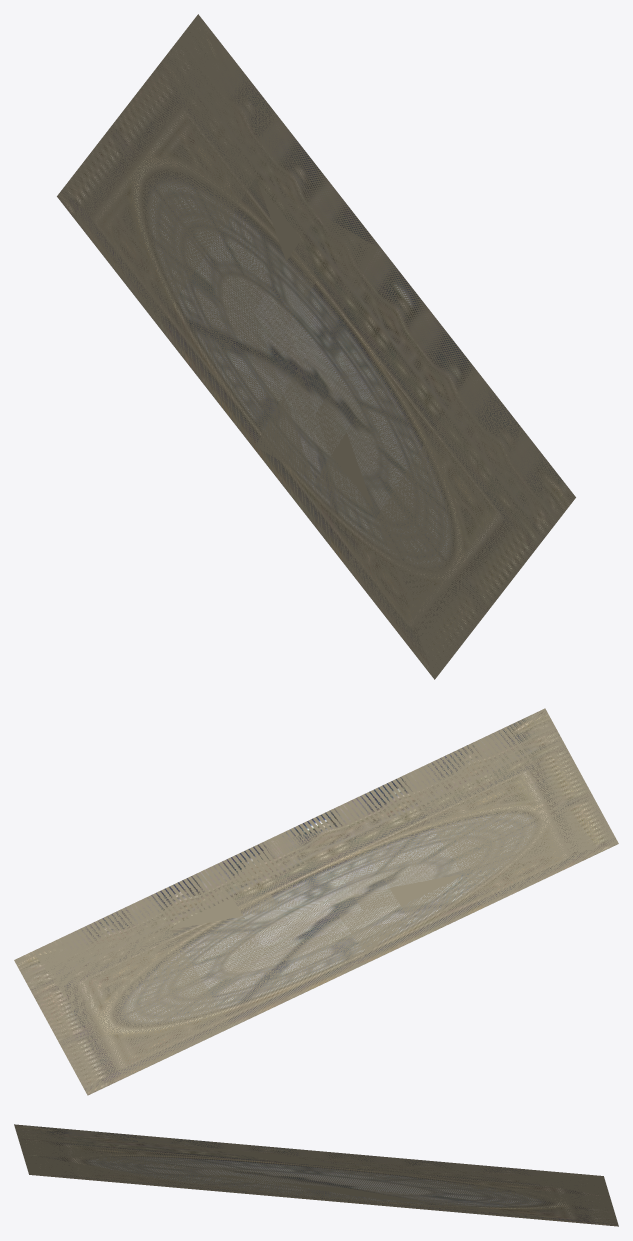
File: 大本钟65.dae
3 views of the same model, one above another, from view 1: azimuth 30°, elevation 25°; view 2: azimuth 150°, elevation 25°; view 3: azimuth 270°, elevation 25° (orthographic). The views are drawn at different scales.
Visible parts, largest first — view 1: SketchUp; view 2: SketchUp; view 3: SketchUp.
Boxes of the visible parts, bbox=[...] form: SketchUp: bbox=[57, 14, 575, 679]; SketchUp: bbox=[14, 708, 618, 1095]; SketchUp: bbox=[14, 1124, 618, 1226].
Size of the model in its own units: 12.95 by 40.12 by 5.95.
